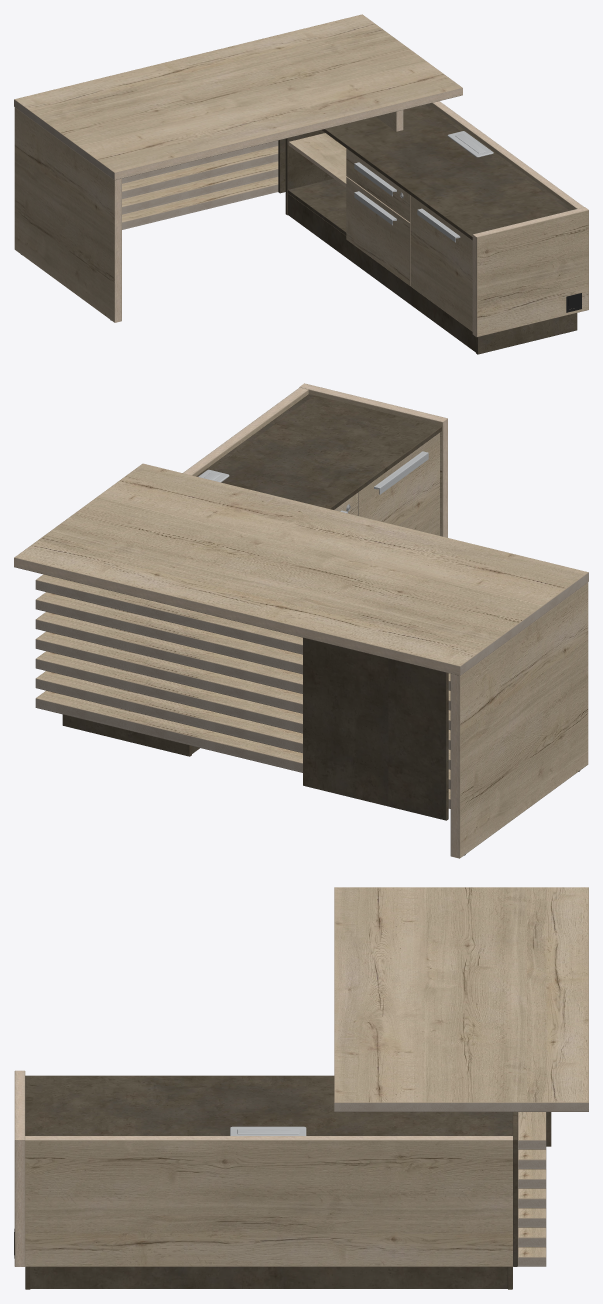
3 views of the same model, one above another, from view 1: azimuth 30°, elevation 25°; view 2: azimuth 150°, elevation 25°; view 3: azimuth 270°, elevation 25° (orthographic). The views are drawn at different scales.
Visible parts, largest first — view 1: Box1578995149, Line1789532200, Line1789532211, Line1789532197, Line1789532193, Line1789532195, Line1789532187, Line1789532206, Line1789532205, Line1789532207, Line1789532186, Line1789532184 (+6 smaller); view 2: Box1578995149, Line1789532200, Line1789532201, Line1789532211, Line1789532205, Line1789532206, Line1789532207, Line1789532208, Line1789532204, Line1789532203, Line1789532209, Line1789532193 (+4 smaller); view 3: Line1789532198, Box1578995149, Line1789532211, Line1789532188, Line1789532197, Line1789532209, Line1789532199, closed_socket, Line1789532204, Line1789532206, Line1789532208, Line1789532203 (+2 smaller).
Boxes of the visible parts, left/top/right/bottom form: Box1578995149: left=14, top=14, right=462, bottom=180; Line1789532200: left=14, top=107, right=121, bottom=322; Line1789532211: left=322, top=103, right=573, bottom=240; Line1789532197: left=472, top=207, right=588, bottom=337; Line1789532193: left=410, top=195, right=472, bottom=331; Line1789532195: left=346, top=176, right=410, bottom=285; Line1789532187: left=288, top=193, right=475, bottom=352; Line1789532206: left=122, top=161, right=278, bottom=214; Line1789532205: left=122, top=146, right=278, bottom=199; Line1789532207: left=122, top=176, right=278, bottom=229; Line1789532186: left=288, top=178, right=346, bottom=235; Line1789532184: left=476, top=313, right=577, bottom=354; Box1578995149: left=14, top=463, right=588, bottom=675; Line1789532200: left=450, top=582, right=588, bottom=858; Line1789532201: left=303, top=638, right=448, bottom=820; Line1789532211: left=196, top=394, right=441, bottom=509; Line1789532205: left=35, top=651, right=450, bottom=769; Line1789532206: left=35, top=671, right=450, bottom=789; Line1789532207: left=35, top=690, right=450, bottom=808; Line1789532208: left=35, top=592, right=450, bottom=710; Line1789532204: left=35, top=631, right=450, bottom=749; Line1789532203: left=35, top=612, right=450, bottom=729; Line1789532209: left=35, top=574, right=450, bottom=690; Line1789532193: left=358, top=432, right=439, bottom=535; Line1789532198: left=25, top=1136, right=512, bottom=1266; Box1578995149: left=334, top=887, right=588, bottom=1111; Line1789532211: left=25, top=1075, right=512, bottom=1135; Line1789532188: left=30, top=1266, right=507, bottom=1288; Line1789532197: left=14, top=1070, right=25, bottom=1266; Line1789532209: left=518, top=1112, right=546, bottom=1149; Line1789532199: left=513, top=1112, right=517, bottom=1266; closed_socket: left=230, top=1126, right=306, bottom=1135; Line1789532204: left=518, top=1188, right=546, bottom=1208; Line1789532206: left=518, top=1227, right=546, bottom=1247; Line1789532208: left=518, top=1149, right=546, bottom=1169; Line1789532203: left=518, top=1169, right=546, bottom=1188.
Size of the model in its own units: 1.8 by 0.75 by 2.03.
9 materials, 6 textured.
